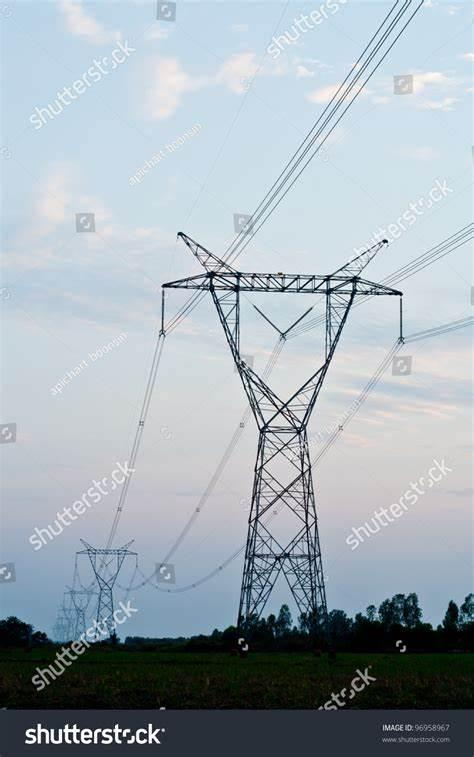power_tower: (159, 225, 407, 639), (73, 535, 150, 632)
